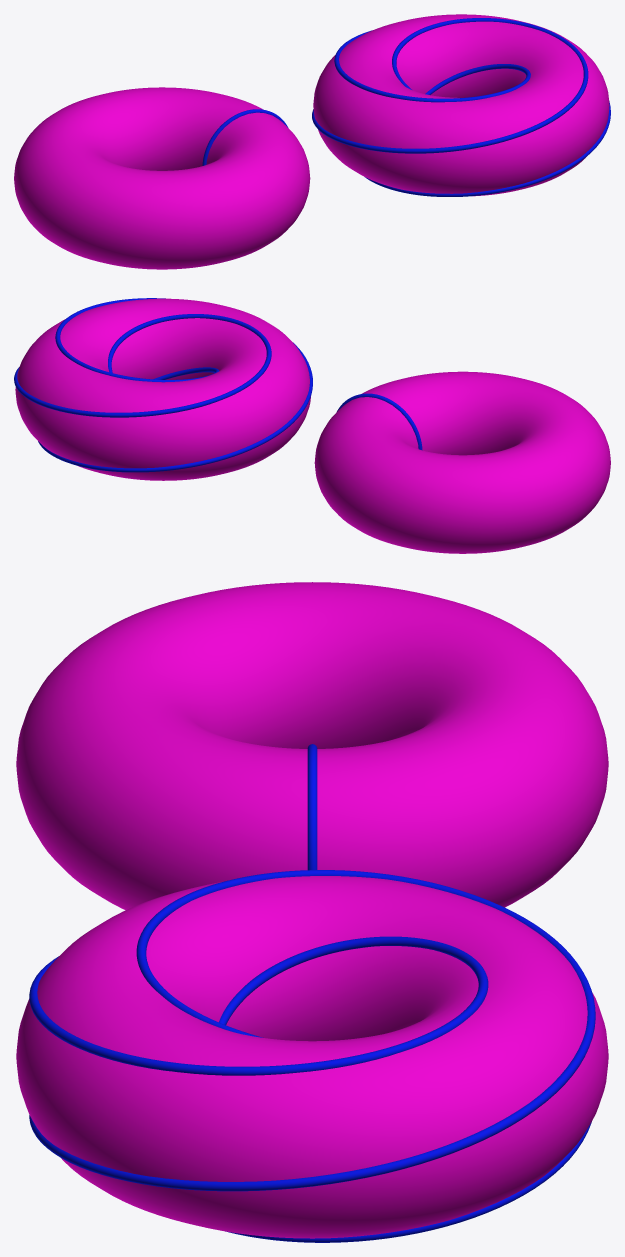
Rendered from equivalent_heegaard_after.glb.
3 renders of one model, top to bottom at view 1: azimuth 30°, elevation 25°; view 2: azimuth 150°, elevation 25°; view 3: azimuth 270°, elevation 25°, orthographic. The views are drawn at different scales.
Visible parts, largest first — view 1: T1, Reference Torus, TorusKnot_5_2, meridional_arc; view 2: T1, Reference Torus, TorusKnot_5_2, meridional_arc; view 3: Reference Torus, T1, TorusKnot_5_2, meridional_arc.
Boxes of the visible parts, <box> form: T1: <box>14,87,310,269</box>; Reference Torus: <box>313,14,609,196</box>; TorusKnot_5_2: <box>312,18,610,196</box>; meridional_arc: <box>202,109,288,165</box>; T1: <box>314,371,610,553</box>; Reference Torus: <box>15,298,310,480</box>; TorusKnot_5_2: <box>14,298,312,472</box>; meridional_arc: <box>337,393,422,450</box>; Reference Torus: <box>16,876,608,1238</box>; T1: <box>16,582,608,910</box>; TorusKnot_5_2: <box>29,870,595,1242</box>; meridional_arc: <box>307,744,317,870</box>.
Bounding box in the file's own units: 6.52 × 1.05 × 3.
